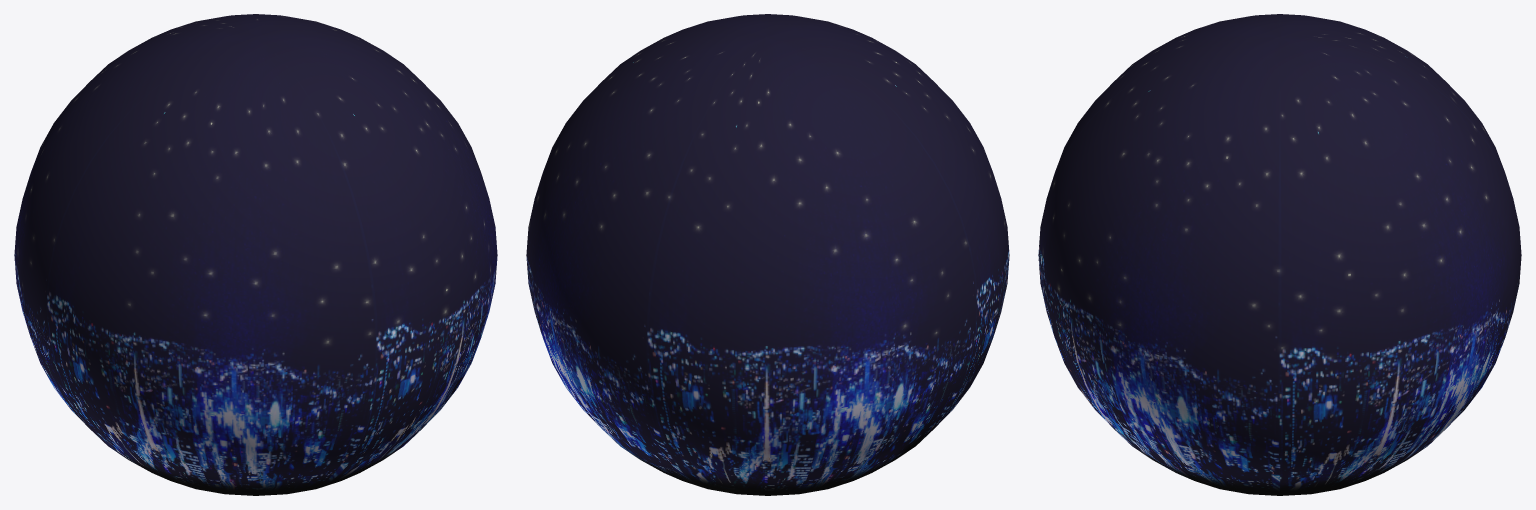
File: Sky.fbx
3 renders of one model, left to right at view 1: azimuth 30°, elevation 25°; view 2: azimuth 150°, elevation 25°; view 3: azimuth 270°, elevation 25°, orthographic.
Visible parts, largest first — view 1: sphere; view 2: sphere; view 3: sphere.
Part boxes in pixels (x1,y1,x2,y2): sphere: [14, 14, 497, 495]; sphere: [526, 14, 1009, 495]; sphere: [1038, 14, 1521, 495].
Bounding box in the file's own units: 81.96 × 76.29 × 81.96.
